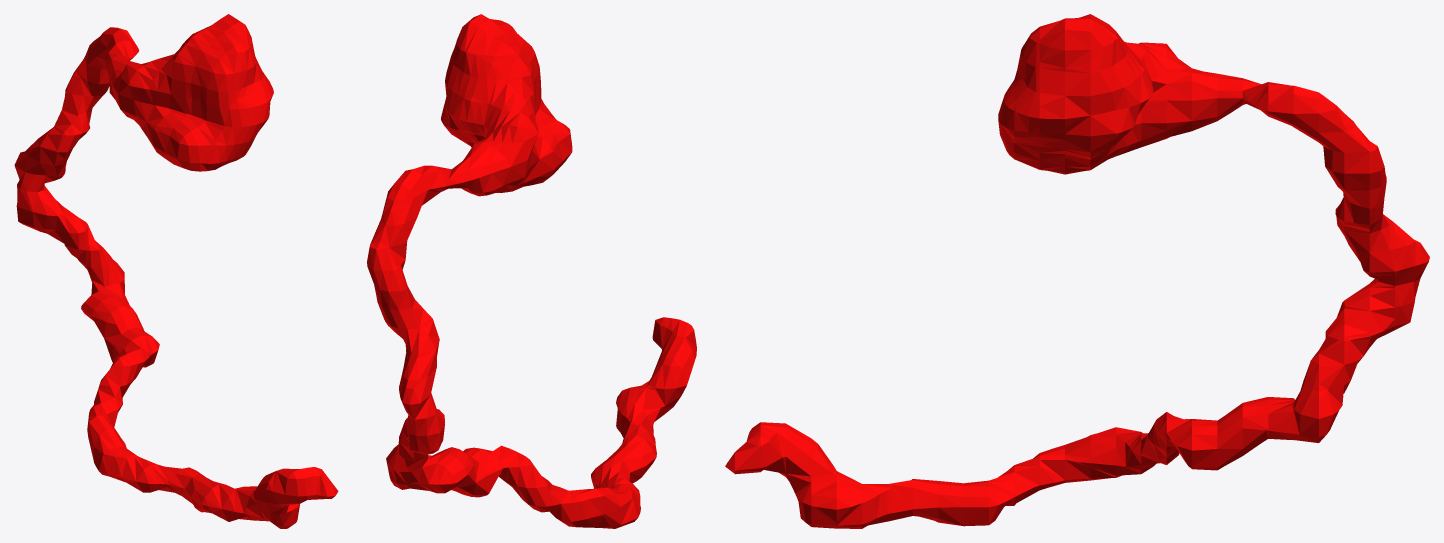
File: proQ_coarse.dae
3 renders of one model, left to right at view 1: azimuth 30°, elevation 25°; view 2: azimuth 150°, elevation 25°; view 3: azimuth 270°, elevation 25°, orthographic. The views are drawn at different scales.
Parts seen in each view (by area): view 1: proQ; view 2: proQ; view 3: proQ.
Boxes of the visible parts, bbox=[...] form: proQ: bbox=[14, 14, 338, 528]; proQ: bbox=[367, 14, 696, 528]; proQ: bbox=[725, 14, 1429, 528].
Size of the model in its own units: 55.64 by 140 by 161.
